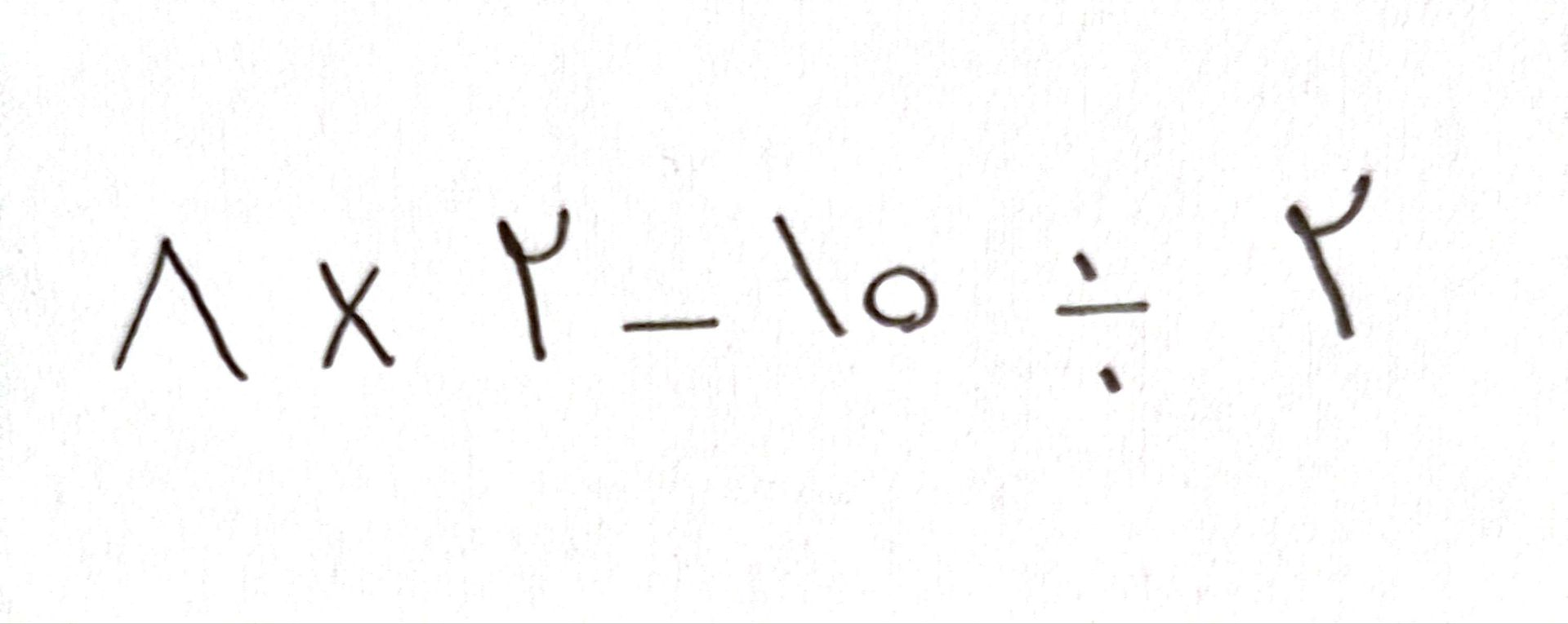character: (115, 236, 247, 382), (1286, 173, 1371, 338), (1057, 253, 1150, 392), (497, 206, 568, 362), (773, 210, 846, 338), (321, 260, 396, 368), (865, 267, 942, 330), (624, 317, 720, 329)
